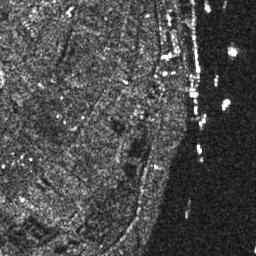ship: (221, 97, 231, 112), (195, 141, 204, 155), (203, 1, 212, 14)
